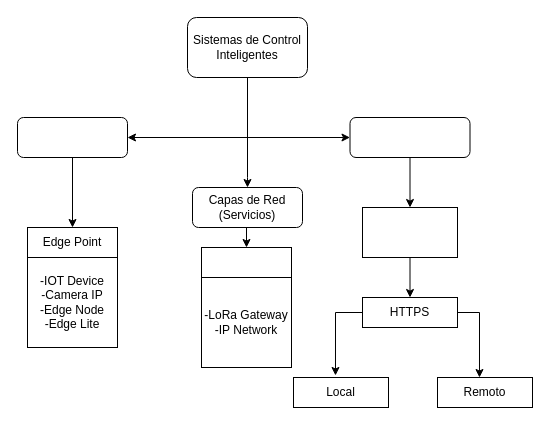
This 550x425 diagram has some shape labels left out. Each missing label, with the centre of its shape:
Capa Fisica (Objeto y Extraccion): [72,137]
Capas de Aplicacion (Aplicacion y Modelo): [409,137]
Edge Router: [246,262]
Server (Security Connection): [410,232]
